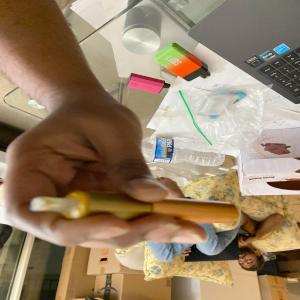Golden-E-Ciggirate: (24, 189, 242, 224)
